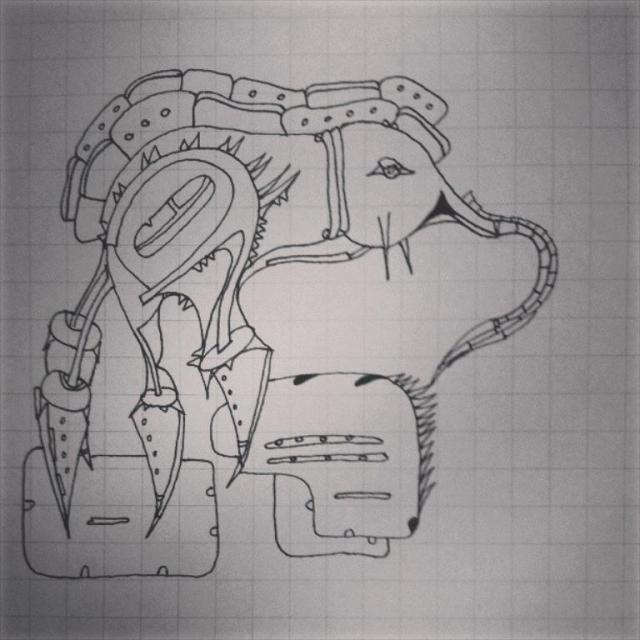elephant: (33, 64, 559, 538)
